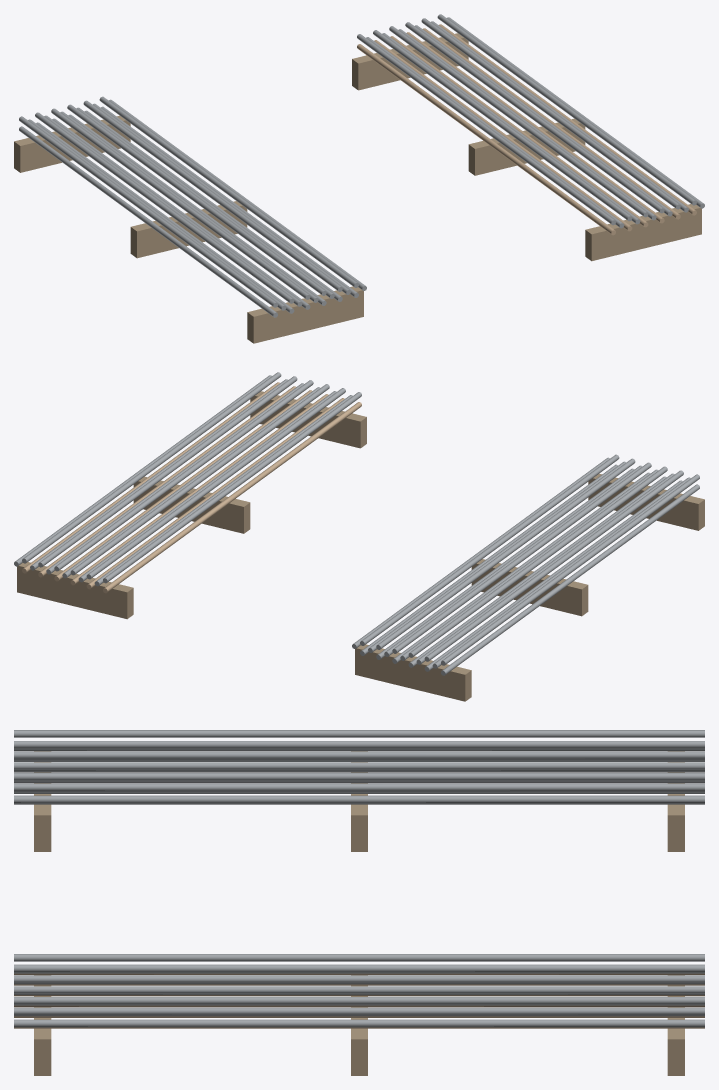
The model's file is piperack.glb.
The picture shows the model from 3 angles, top to bottom: view 1: azimuth 30°, elevation 25°; view 2: azimuth 150°, elevation 25°; view 3: azimuth 270°, elevation 25°; orthographic projection. The views are drawn at different scales.
Bounding box in the file's own units: 12.2 × 1.12 × 12.
